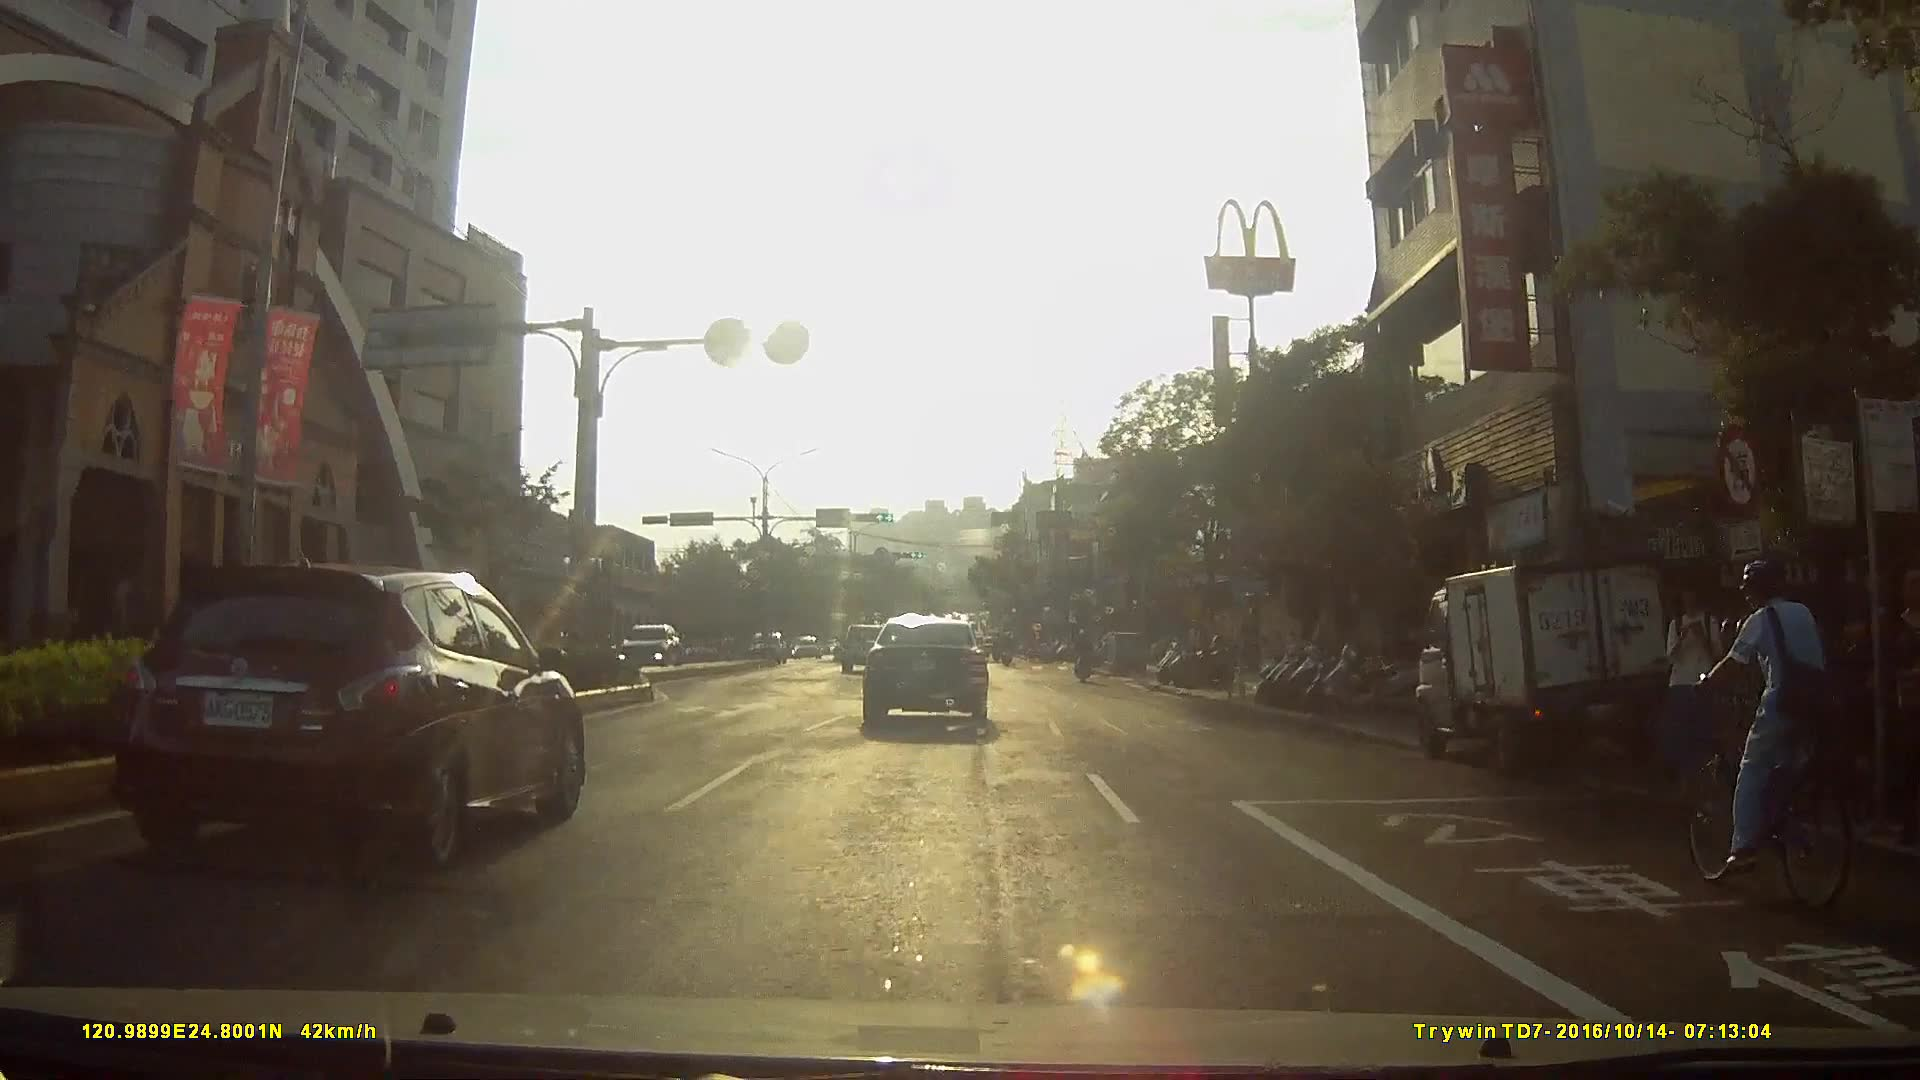pedestrian: (1662, 577, 1739, 800), (1901, 567, 1920, 828)
rider: (1680, 557, 1852, 911), (1073, 624, 1098, 684)
vehicle: (95, 556, 593, 866), (1401, 542, 1700, 772), (861, 611, 1003, 735), (605, 619, 683, 672), (837, 621, 896, 676), (734, 627, 780, 664), (785, 631, 832, 661)
